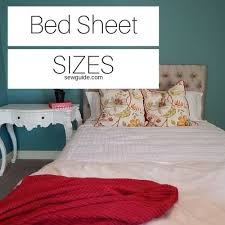bed-matress: (51, 99, 225, 225)
